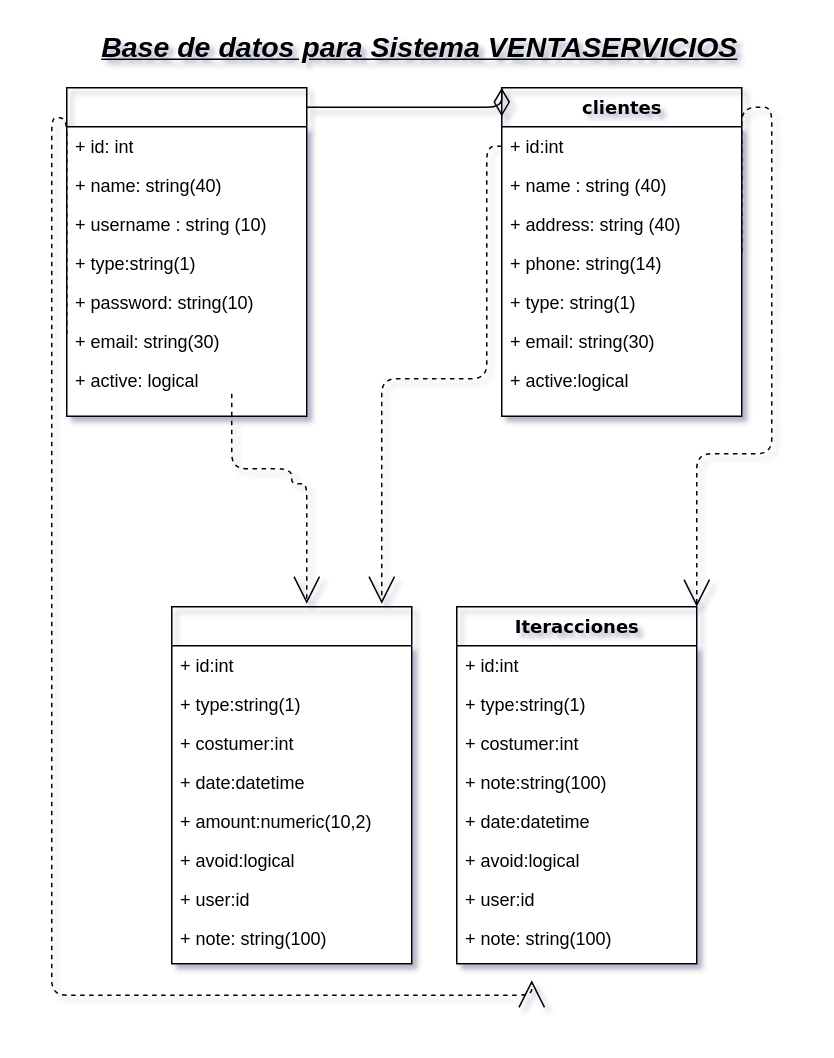
Some shapes in this 834 by 1058 pixel diagram are drawn without their labels. Each missing label, with the box of its shape:
Transacciones: (170, 605, 412, 964)
usuarios: (65, 86, 307, 416)
